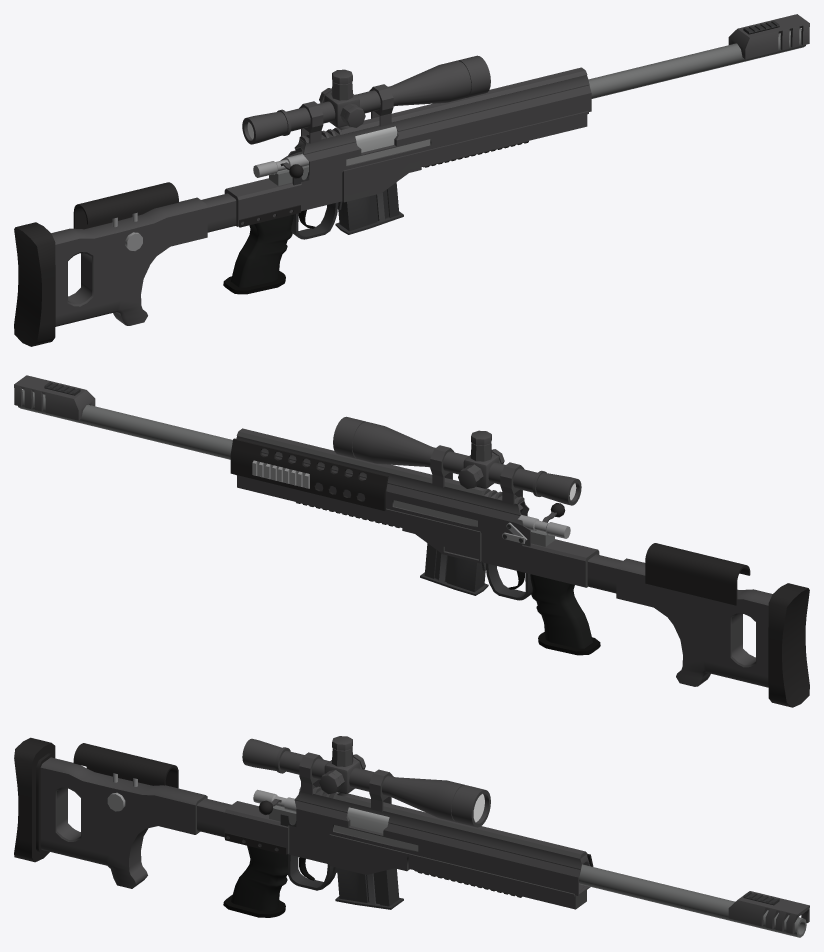
The model's file is JNG_90_Mesh.fbx.
3 renders of one model, top to bottom at view 1: azimuth 30°, elevation 25°; view 2: azimuth 150°, elevation 25°; view 3: azimuth 330°, elevation 25°, orthographic.
Parts seen in each view (by area): view 1: JNG_90; view 2: JNG_90; view 3: JNG_90.
Part boxes in pixels (x1,y1,x2,y2): JNG_90: (14, 14, 809, 346); JNG_90: (14, 375, 809, 707); JNG_90: (14, 736, 809, 937).
Size of the model in its own units: 1.2 by 0.2855 by 0.0893.
